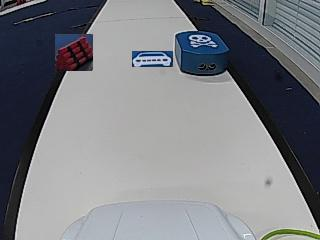danger: (188, 33, 217, 47)
